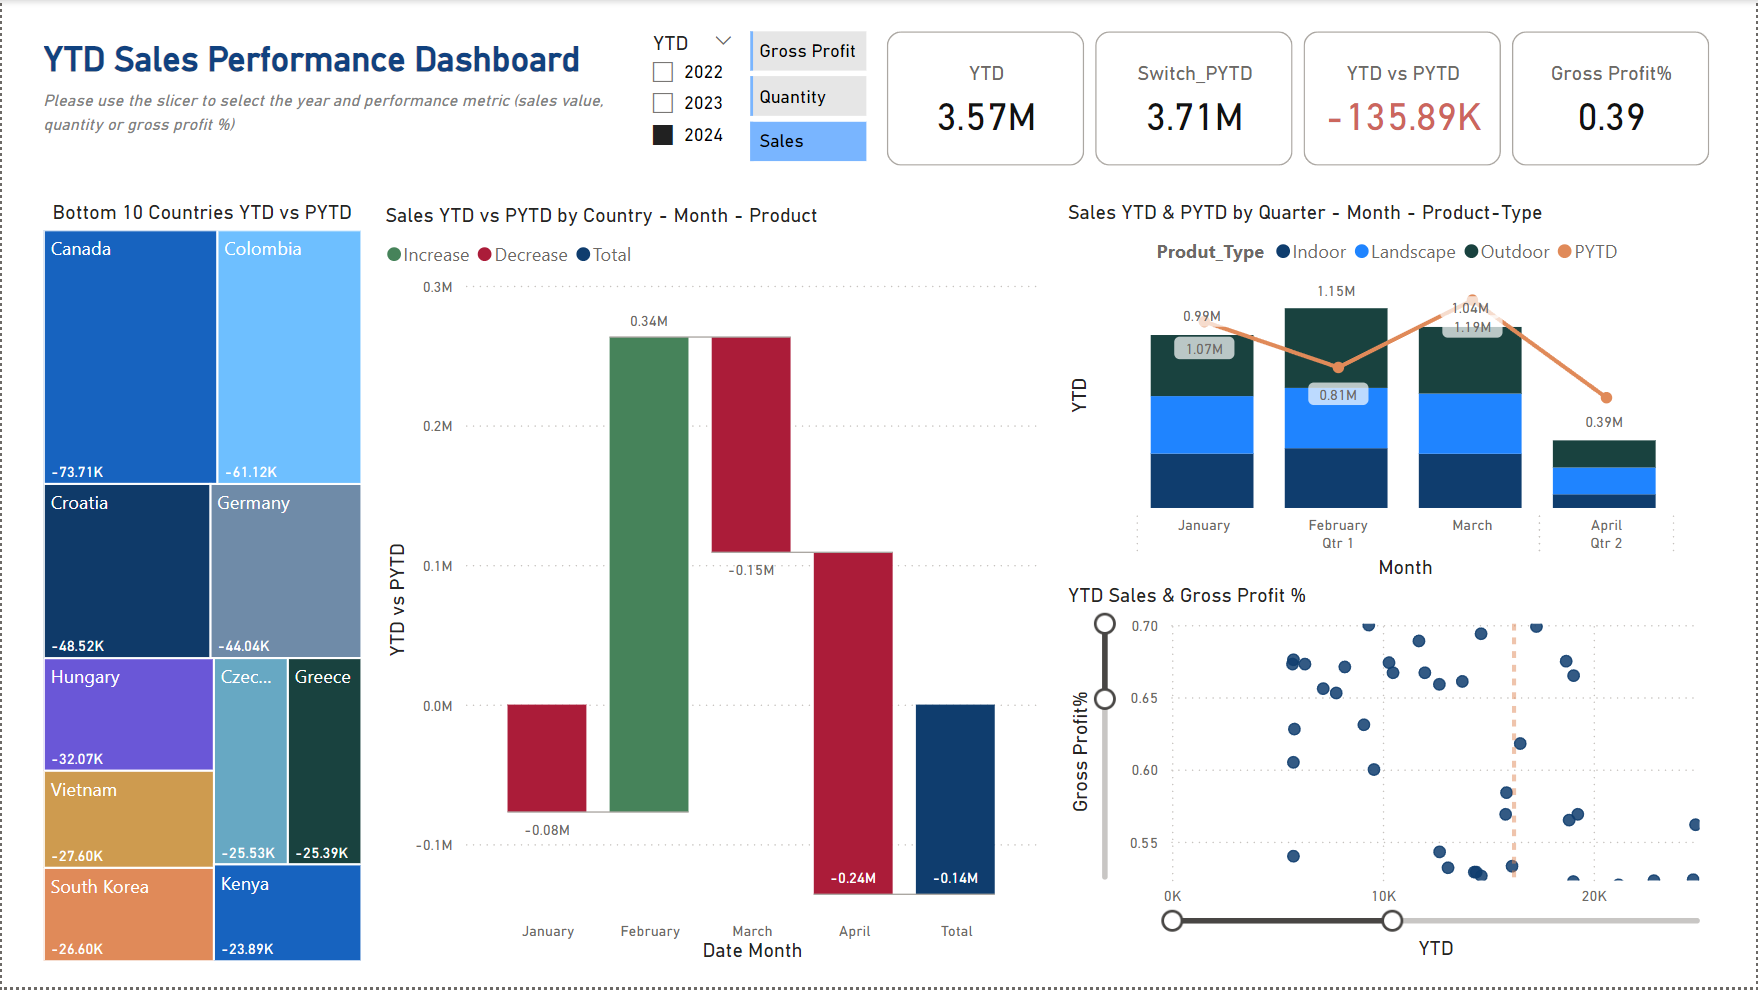

Layout of this report page (visuals, bound fields, positions):
{"tool":"powerbi","page":{"name":"Page 1","canvas":[1280,720],"ordinal":0},"visuals":[{"type":"cardVisual","fields":{"Data":["_Measures.Switch_YTD","_Measures.Switch_PYTD","_Measures.YTD vs PYTD","_Measures.Gross Profit%"]},"box":[640.2,17,612.8,108.4],"z":0},{"type":"advancedSlicerVisual","fields":{"Values":["Slicer_VALS.Values"]},"box":[540.9,17,95.4,107.1],"z":1000},{"type":"slicer","fields":{"Values":["Dim_Date.Date.Variation.Date Hierarchy.Year"]},"box":[461.2,17,83.6,105.8],"z":2000},{"type":"treemap","title":"Bottom 10 Countries YTD vs PYTD","fields":{"Values":["_Measures.YTD vs PYTD"],"Group":["Dim_Accounts.Country"]},"box":[24.8,146.3,241.7,559.2],"z":3000},{"type":"waterfallChart","fields":{"Y":["_Measures.YTD vs PYTD"],"Category":["Dim_Date.Date.Variation.Date Hierarchy.Month","Dim_Accounts.Country","Dim_Product.Produt_Type","Dim_Product.Product_Name"]},"box":[274.4,149,486,556.6],"z":4000},{"type":"lineStackedColumnComboChart","fields":{"Y":["_Measures.Switch_YTD"],"Y2":["_Measures.Switch_PYTD"],"Category":["Dim_Date.Date.Variation.Date Hierarchy.Quarter","Dim_Date.Date.Variation.Date Hierarchy.Month"],"Series":["Dim_Product.Produt_Type"]},"box":[772.2,146.3,480.8,279.6],"z":5000},{"type":"scatterChart","fields":{"X":["_Measures.Switch_YTD"],"Y":["_Measures.Gross Profit%"],"Category":["Dim_Accounts.Account"]},"box":[772.2,425.9,480.8,278.3],"z":6000},{"type":"textbox","title":"YTD Sales Performance Dashboard","box":[24.8,28.7,423.3,84.9],"z":7000}]}

Visuals, with their boxes in screenshot pixels (x1, y1, x2, y2), scaled from the page's 1280x720 canvas onto the 1758x993 screenshot:
cardVisual - _Measures.Switch_YTD x _Measures.Switch_PYTD: 879,23,1721,173
advancedSlicerVisual - Slicer_VALS.Values: 743,23,874,171
slicer - Dim_Date.Date.Variation.Date Hierarchy.Year: 633,23,748,169
"Bottom 10 Countries YTD vs PYTD" treemap: 34,202,366,973
waterfallChart - _Measures.YTD vs PYTD x Dim_Date.Date.Variation.Date Hierarchy.Month: 377,205,1044,973
lineStackedColumnComboChart - _Measures.Switch_YTD x _Measures.Switch_PYTD: 1061,202,1721,587
scatterChart - _Measures.Switch_YTD x _Measures.Gross Profit%: 1061,587,1721,971
"YTD Sales Performance Dashboard" textbox: 34,40,615,157
